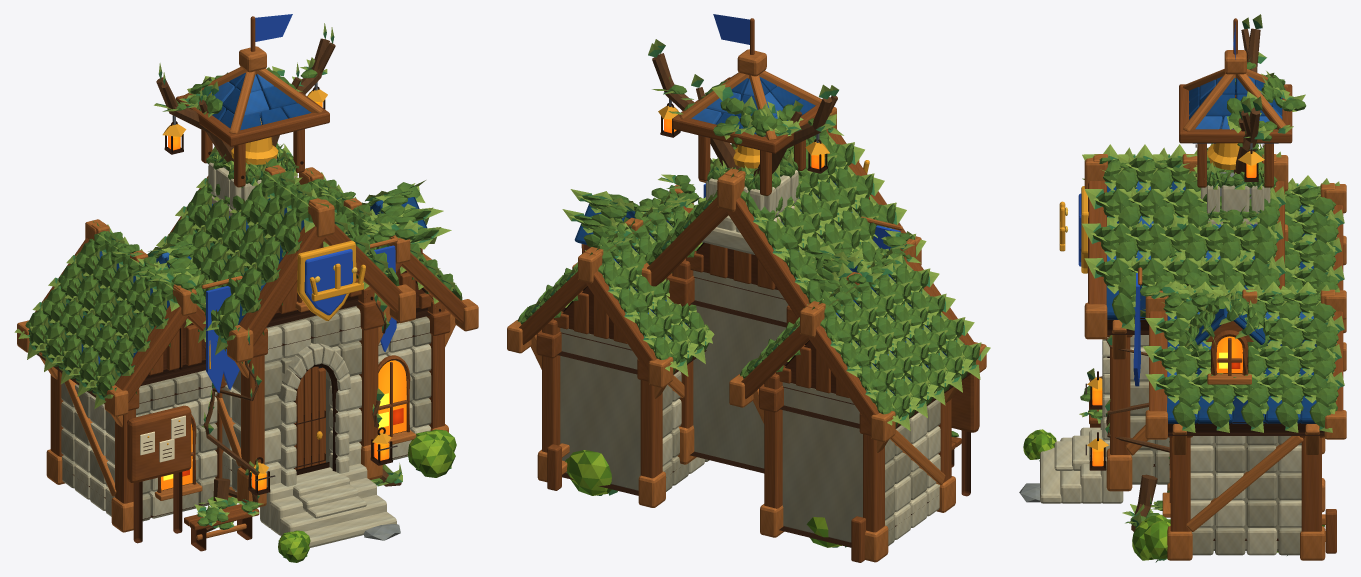
File: town_hall.glb
The picture shows the model from 3 angles, left to right: view 1: azimuth 30°, elevation 25°; view 2: azimuth 150°, elevation 25°; view 3: azimuth 270°, elevation 25°; orthographic projection. The views are drawn at different scales.
Visible parts, largest first — view 1: Runtime surface 008, Runtime surface 025, Runtime surface 030, Runtime surface 000, Runtime surface 038, Runtime surface 007, Runtime surface 002, Runtime surface 047, Runtime surface 012, Runtime surface 039, Runtime surface 051, Runtime surface 001 (+21 smaller); view 2: Runtime surface 038, Runtime surface 008, Runtime surface 025, Runtime surface 000, Runtime surface 007, Runtime surface 051, Runtime surface 030, Runtime surface 012, Runtime surface 039, Runtime surface 050, Runtime surface 047, Runtime surface 031 (+11 smaller); view 3: Runtime surface 008, Runtime surface 000, Runtime surface 007, Runtime surface 025, Runtime surface 030, Runtime surface 038, Runtime surface 012, Runtime surface 051, Runtime surface 047, Runtime surface 043, Runtime surface 015, Runtime surface 006 (+19 smaller).
Part boxes in pixels (bbox=[...]): Runtime surface 008: bbox=[25, 158, 462, 529]; Runtime surface 025: bbox=[35, 176, 466, 503]; Runtime surface 030: bbox=[74, 307, 431, 547]; Runtime surface 000: bbox=[17, 165, 478, 532]; Runtime surface 038: bbox=[61, 306, 431, 521]; Runtime surface 007: bbox=[14, 161, 455, 525]; Runtime surface 002: bbox=[206, 245, 396, 392]; Runtime surface 047: bbox=[156, 38, 401, 532]; Runtime surface 012: bbox=[176, 16, 329, 187]; Runtime surface 039: bbox=[36, 271, 441, 519]; Runtime surface 051: bbox=[117, 69, 414, 527]; Runtime surface 001: bbox=[147, 89, 391, 473]; Runtime surface 038: bbox=[560, 270, 940, 545]; Runtime surface 008: bbox=[517, 127, 979, 437]; Runtime surface 025: bbox=[519, 127, 979, 562]; Runtime surface 000: bbox=[507, 107, 986, 562]; Runtime surface 007: bbox=[516, 114, 990, 430]; Runtime surface 051: bbox=[605, 80, 909, 292]; Runtime surface 030: bbox=[662, 399, 940, 539]; Runtime surface 012: bbox=[672, 18, 832, 195]; Runtime surface 039: bbox=[557, 242, 970, 547]; Runtime surface 050: bbox=[611, 39, 914, 281]; Runtime surface 047: bbox=[652, 53, 837, 175]; Runtime surface 031: bbox=[562, 243, 970, 496]; Runtime surface 008: bbox=[1080, 157, 1338, 427]; Runtime surface 000: bbox=[1084, 154, 1346, 560]; Runtime surface 007: bbox=[1079, 144, 1344, 432]; Runtime surface 025: bbox=[1088, 181, 1343, 553]; Runtime surface 030: bbox=[1040, 335, 1301, 555]; Runtime surface 038: bbox=[1130, 381, 1301, 555]; Runtime surface 012: bbox=[1179, 18, 1292, 187]; Runtime surface 051: bbox=[1130, 62, 1306, 526]; Runtime surface 047: bbox=[1089, 28, 1260, 531]; Runtime surface 043: bbox=[1106, 181, 1316, 423]; Runtime surface 015: bbox=[1183, 50, 1288, 131]; Runtime surface 006: bbox=[1084, 154, 1344, 430].
Bounding box in the file's own units: 5.02 × 5.98 × 3.74.
Materials: 39 (31 with a texture image).
